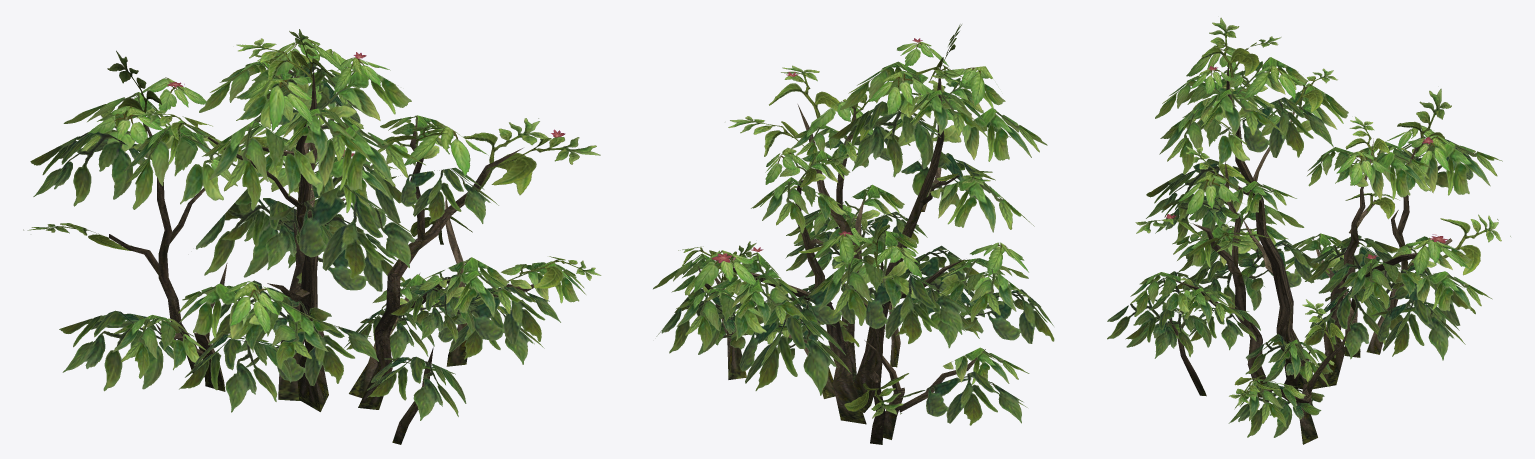
The model's file is S_Tree_Green030_A1.FBX.
The picture shows the model from 3 angles, left to right: view 1: azimuth 30°, elevation 25°; view 2: azimuth 150°, elevation 25°; view 3: azimuth 270°, elevation 25°; orthographic projection. The views are drawn at different scales.
Parts seen in each view (by area): view 1: S_Tree_Green030_A1_2; view 2: S_Tree_Green030_A1_2; view 3: S_Tree_Green030_A1_2.
Boxes of the visible parts, left/top/right/bottom form: S_Tree_Green030_A1_2: left=23, top=29, right=601, bottom=444; S_Tree_Green030_A1_2: left=653, top=24, right=1054, bottom=444; S_Tree_Green030_A1_2: left=1107, top=17, right=1510, bottom=444.
Bounding box in the file's own units: 384 × 323 × 364.
